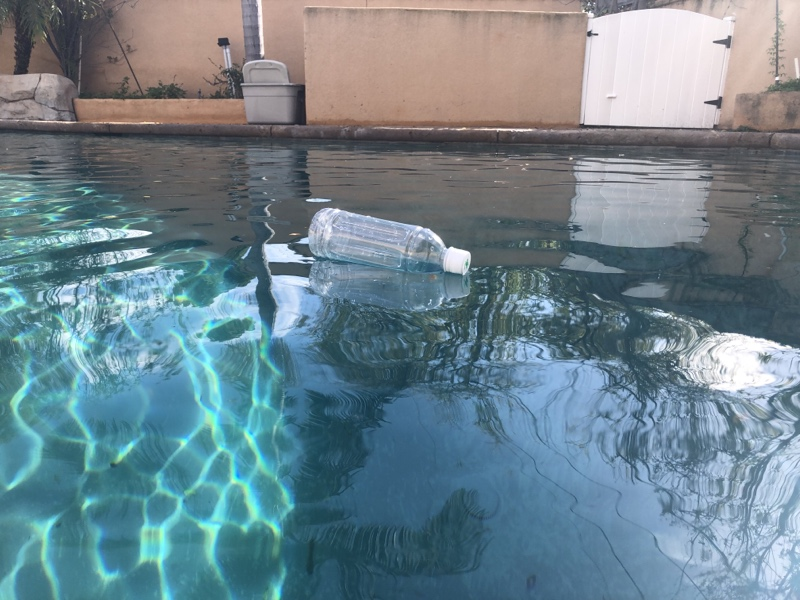Plastic Bottle: (303, 207, 475, 278)
